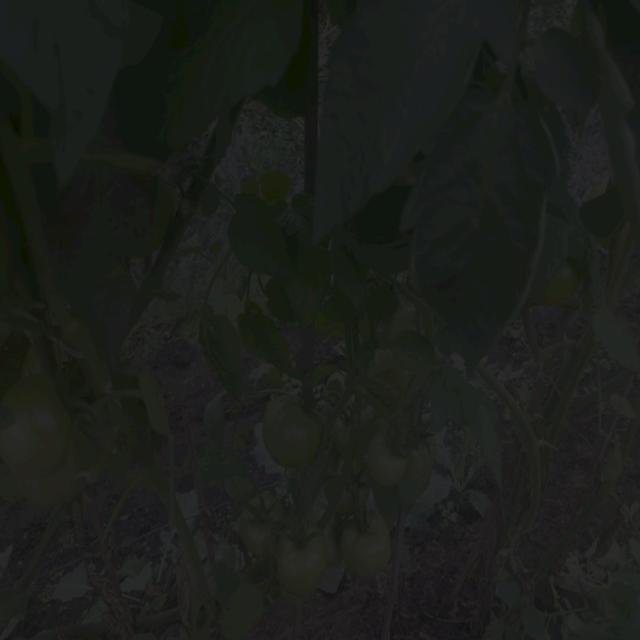tomato: (4, 376, 91, 495), (261, 400, 323, 464), (337, 512, 395, 578), (274, 524, 330, 590), (240, 492, 284, 555), (361, 434, 409, 484), (402, 424, 435, 494), (549, 264, 588, 312), (387, 307, 427, 348), (334, 414, 364, 456)
